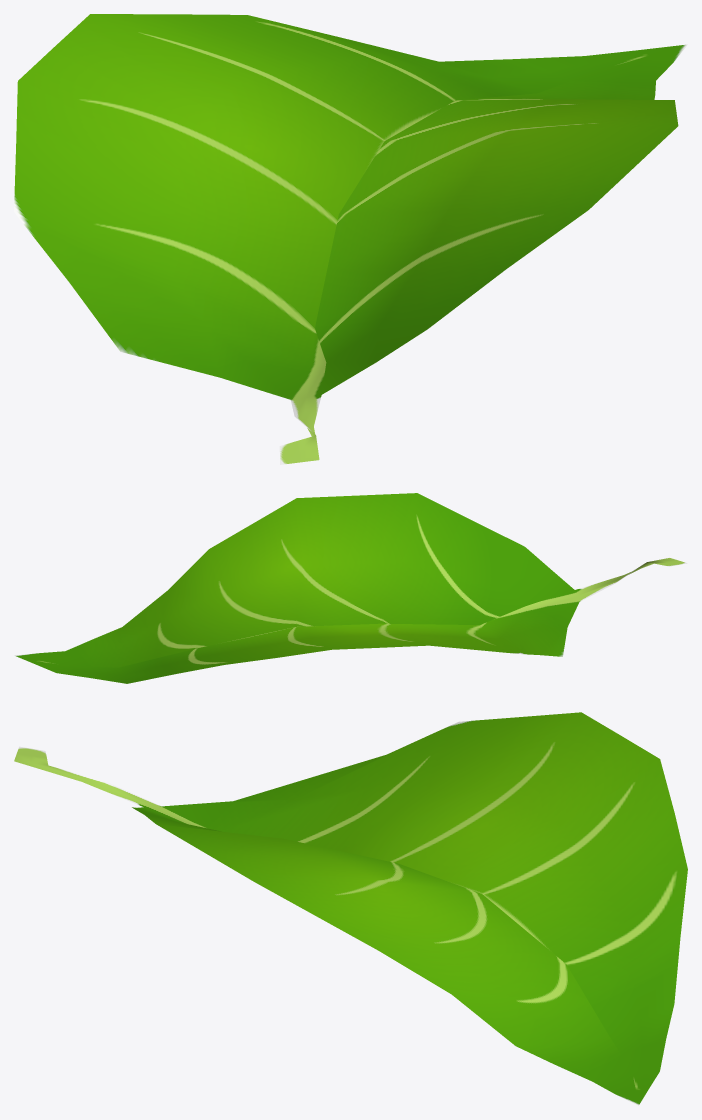
The model's file is leaf.fbx.
3 views of the same model, one above another, from view 1: azimuth 30°, elevation 25°; view 2: azimuth 150°, elevation 25°; view 3: azimuth 270°, elevation 25° (orthographic). The views are drawn at different scales.
Parts seen in each view (by area): view 1: leaf; view 2: leaf; view 3: leaf.
Part boxes in pixels (x1,y1,x2,y2): leaf: (14, 14, 687, 464); leaf: (14, 493, 687, 683); leaf: (14, 712, 687, 1105).
Bounding box in the file's own units: 147 × 28.41 × 137.
